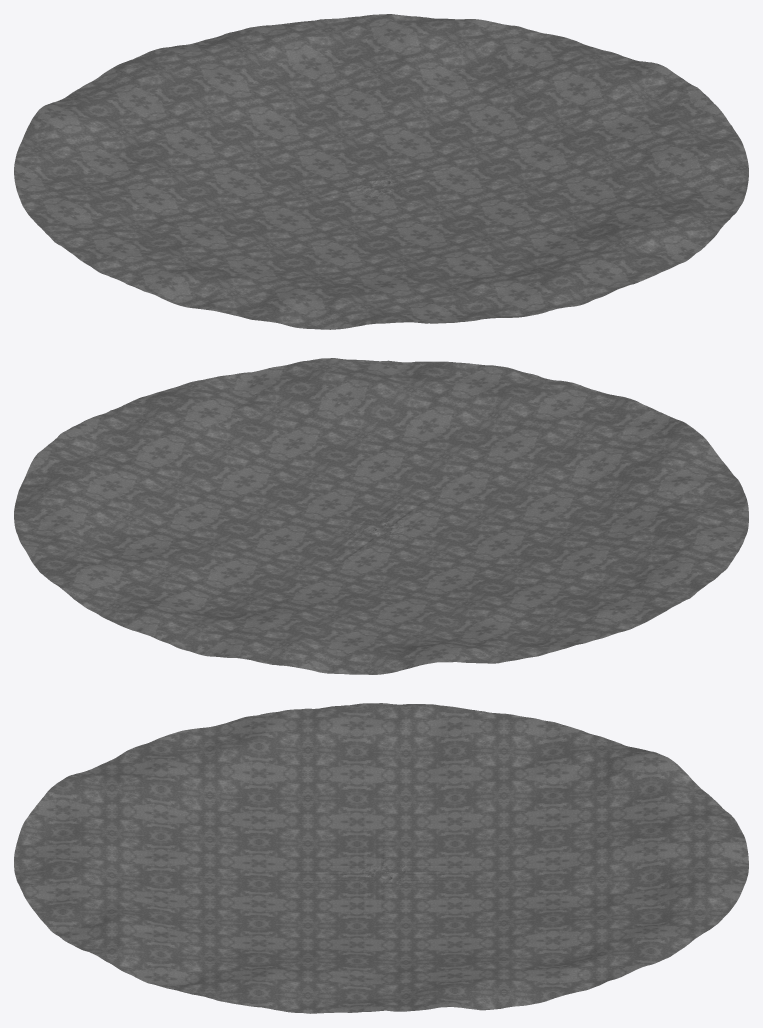
The model's file is lua_terreno.glb.
The picture shows the model from 3 angles, top to bottom: view 1: azimuth 30°, elevation 25°; view 2: azimuth 150°, elevation 25°; view 3: azimuth 270°, elevation 25°; orthographic projection.
Parts seen in each view (by area): view 1: LuaHorizonte, LuaTerreno; view 2: LuaHorizonte, LuaTerreno; view 3: LuaHorizonte, LuaTerreno.
Boxes of the visible parts, box(x1,y1,x2,y2) form: LuaHorizonte: box(14, 14, 748, 329); LuaTerreno: box(348, 172, 414, 200); LuaHorizonte: box(14, 358, 748, 674); LuaTerreno: box(348, 515, 414, 543); LuaHorizonte: box(14, 703, 748, 1013); LuaTerreno: box(357, 864, 405, 885).
Size of the model in its own units: 12000 by 404 by 12000.
Materials: 1 (1 with a texture image).
